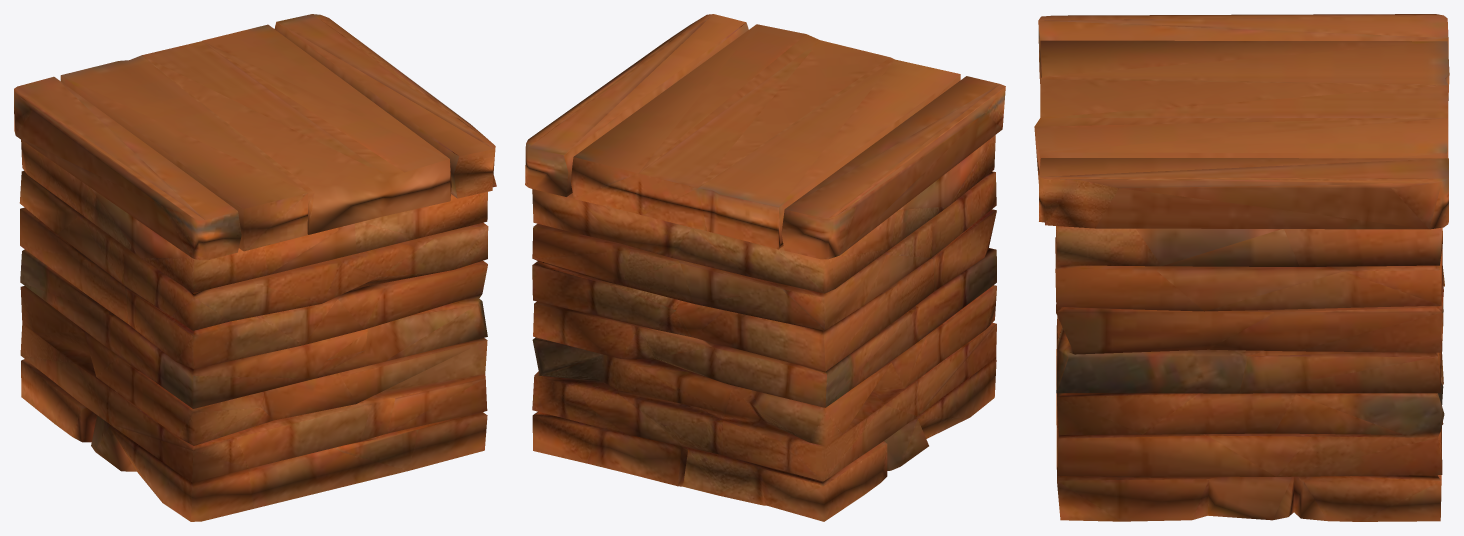
Rendered from arena-claywall.glb.
3 renders of one model, left to right at view 1: azimuth 30°, elevation 25°; view 2: azimuth 150°, elevation 25°; view 3: azimuth 270°, elevation 25°, orthographic. The views are drawn at different scales.
Size of the model in its own units: 0.9423 by 0.8843 by 0.9648.
1 material, 1 textured.
